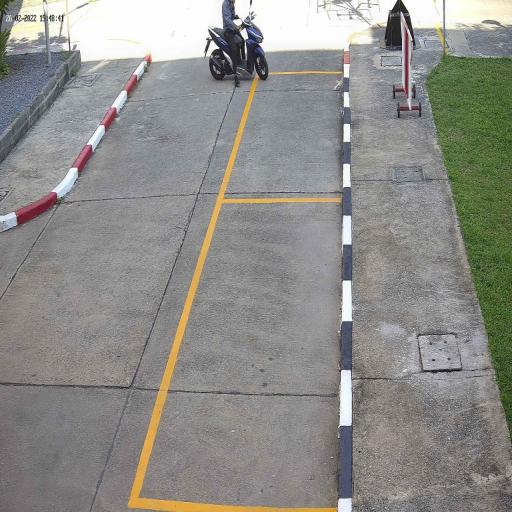motorcycle: (208, 23, 269, 82)
